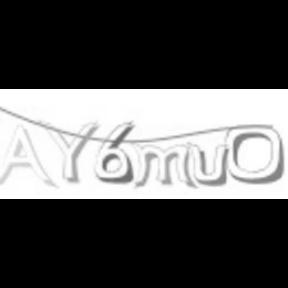6: (94, 119, 136, 184)
A: (0, 123, 54, 191)
O: (224, 124, 284, 186)
Y: (43, 122, 99, 184)
m: (132, 139, 196, 191)
u: (189, 142, 230, 188)
